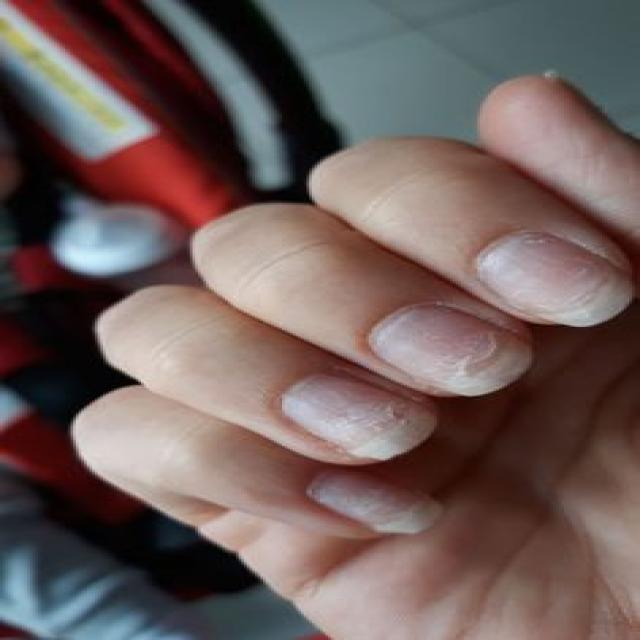Fingernail: (477, 228, 639, 331), (368, 303, 533, 397), (282, 373, 438, 462), (311, 470, 444, 533)
